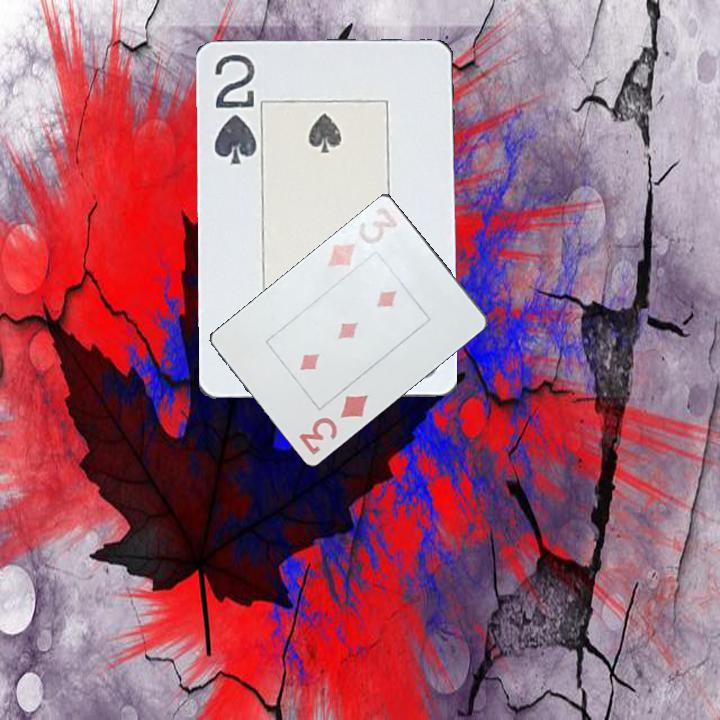2s: (211, 51, 260, 169)
3d: (324, 202, 405, 272), (295, 390, 371, 458)
